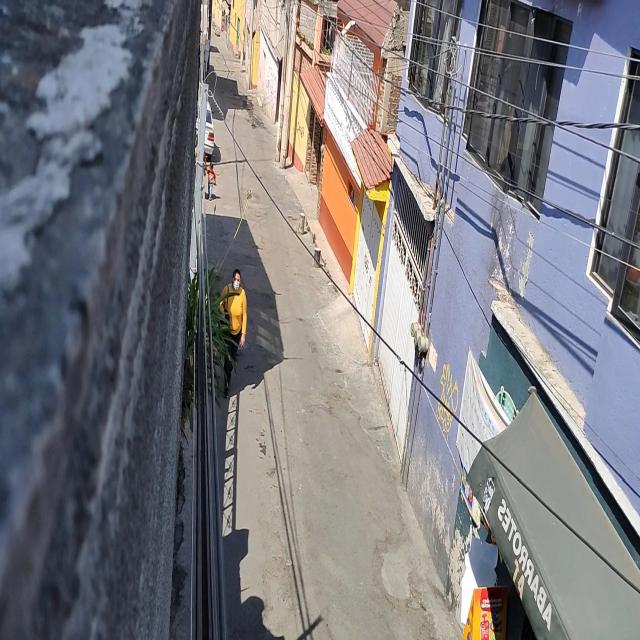adult: (219, 268, 247, 399)
